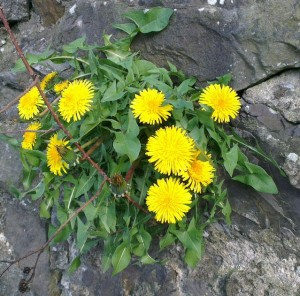dandelion: (149, 182, 190, 220), (200, 81, 238, 119), (151, 133, 186, 172), (131, 92, 176, 122), (57, 81, 93, 114)
